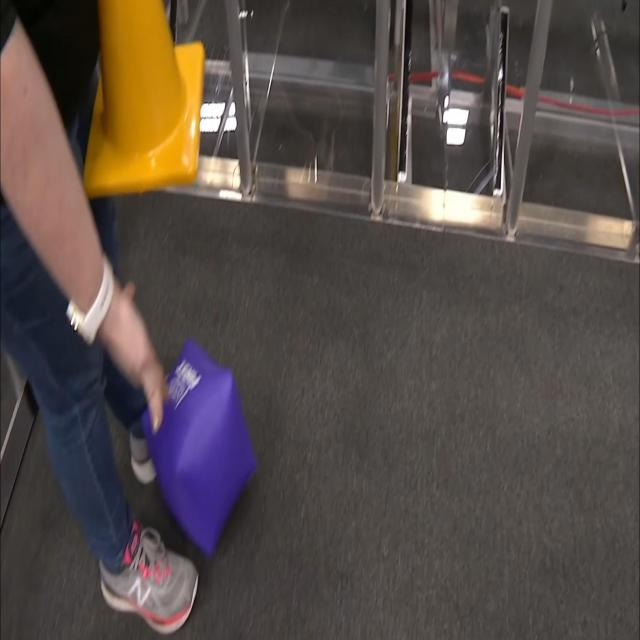frc_cone: (72, 0, 202, 199)
frc_cube: (139, 333, 252, 561)
